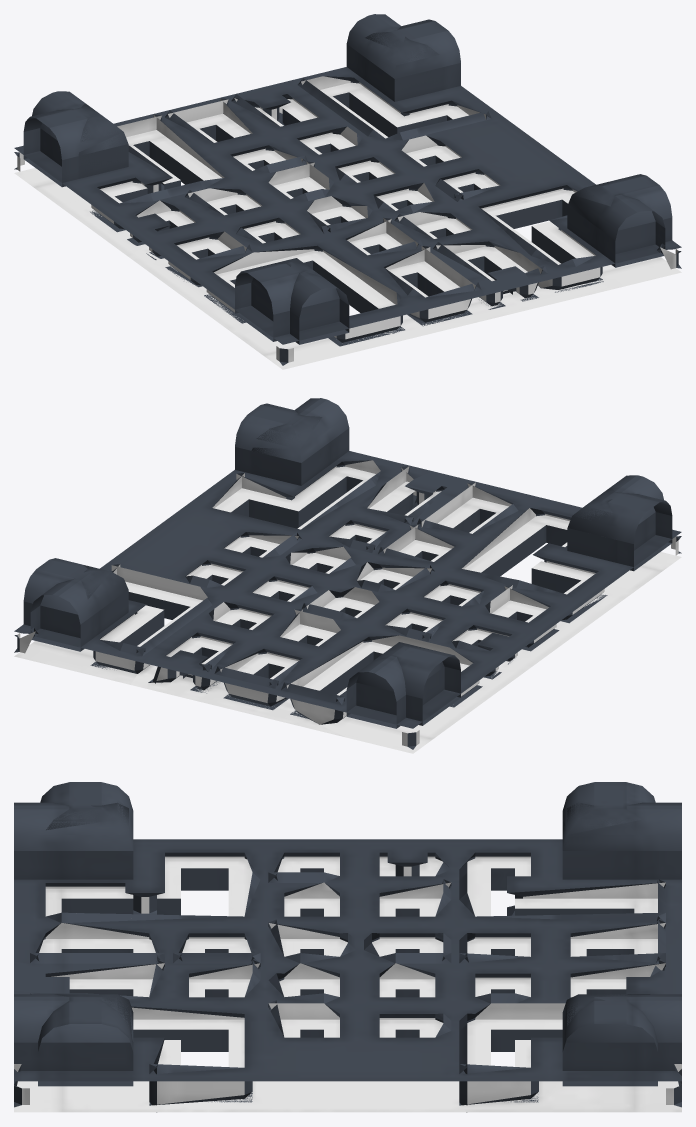
File: delbld-girder-576.glb
The picture shows the model from 3 angles, top to bottom: view 1: azimuth 30°, elevation 25°; view 2: azimuth 150°, elevation 25°; view 3: azimuth 270°, elevation 25°; orthographic projection. The views are drawn at different scales.
Parts seen in each view (by area): view 1: delbld-girder-576; view 2: delbld-girder-576; view 3: delbld-girder-576.
Boxes of the visible parts, x1,y1,x2,y2 form: delbld-girder-576: [14, 14, 681, 369]; delbld-girder-576: [14, 398, 681, 753]; delbld-girder-576: [14, 782, 681, 1112].
Bounding box in the file's own units: 2 × 0.3678 × 2.33.
3 materials, 3 textured.
